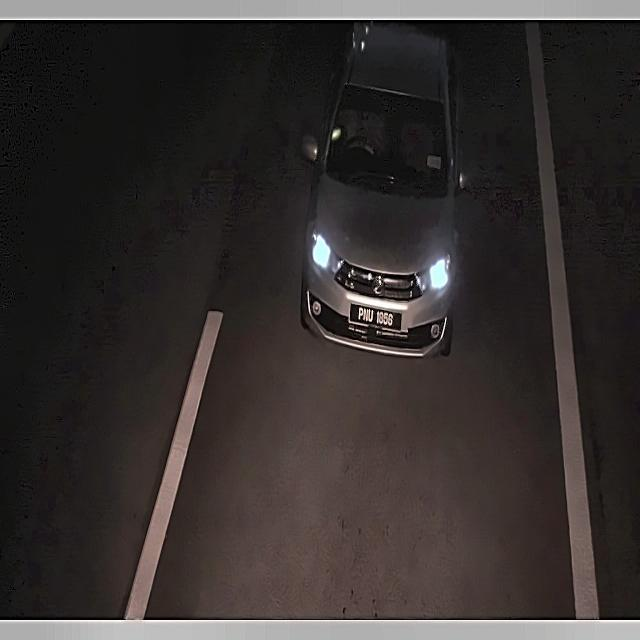car: (346, 299, 406, 336)
